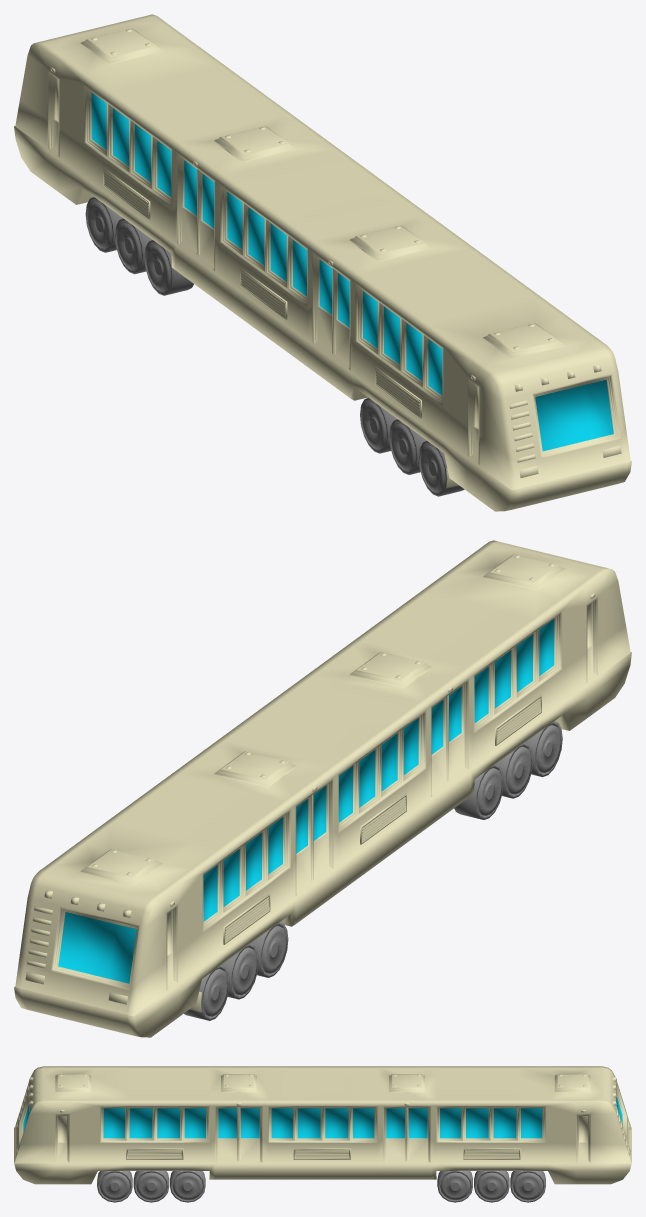
File: subway_car.glb
The picture shows the model from 3 angles, top to bottom: view 1: azimuth 30°, elevation 25°; view 2: azimuth 150°, elevation 25°; view 3: azimuth 270°, elevation 25°; orthographic projection. The views are drawn at different scales.
Visible parts, largest first — view 1: Subway_Car; view 2: Subway_Car; view 3: Subway_Car.
Boxes of the visible parts, x1,y1,x2,y2 form: Subway_Car: (14,14,631,511); Subway_Car: (14,540,631,1037); Subway_Car: (14,1066,631,1202).
Bounding box in the file's own units: 6.71 × 8.95 × 47.8.
